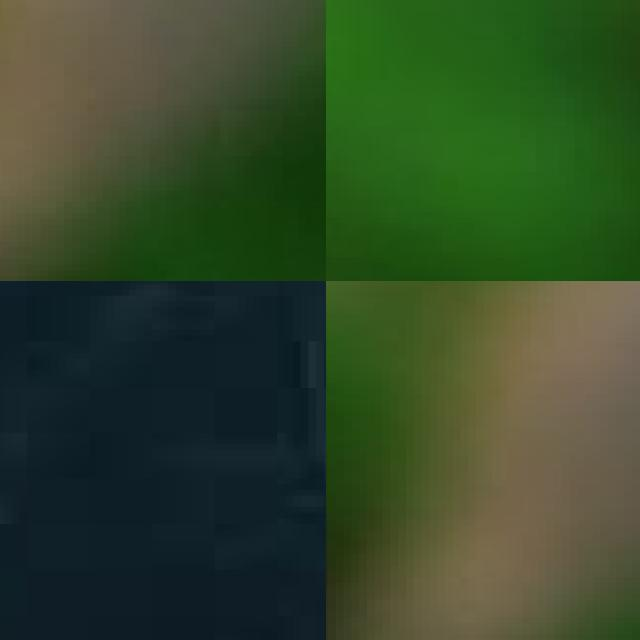fish: (326, 281, 640, 640), (0, 0, 326, 281)
